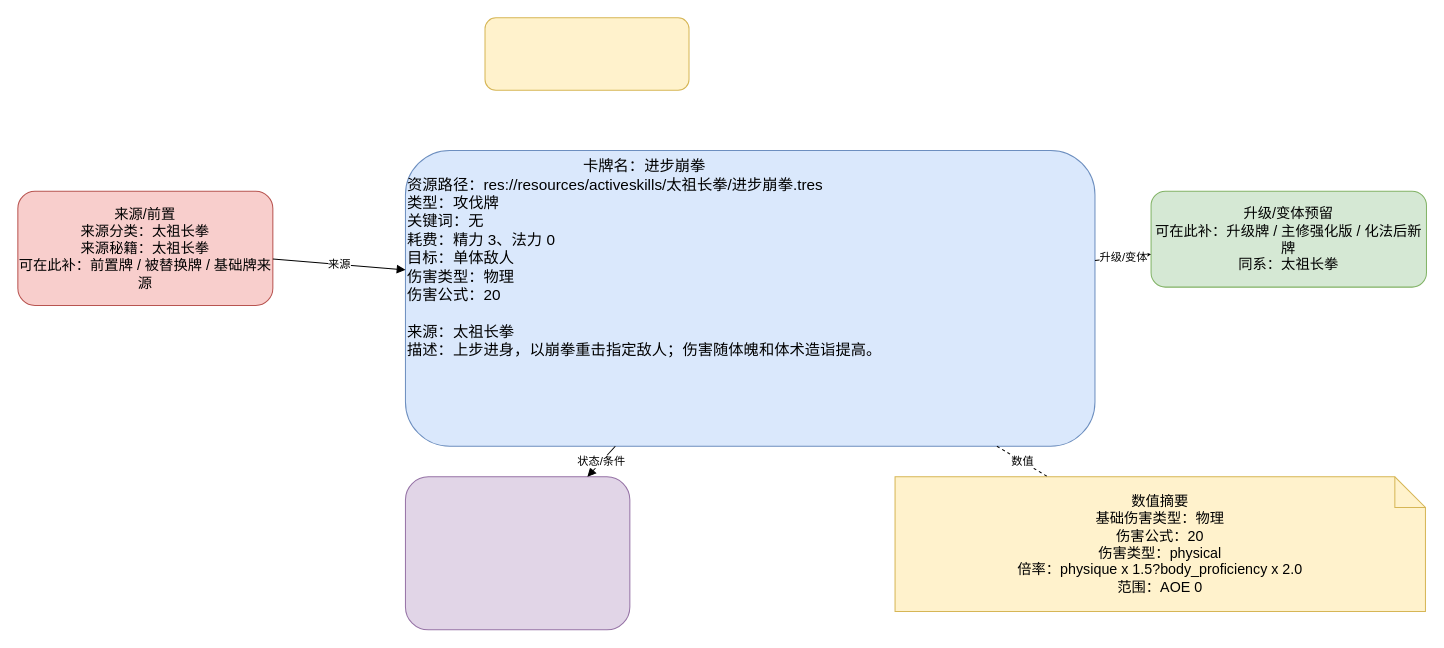
The diagram is 1444 pixels wide and 648 high, and some of its shapes have lost their labels. Each missing label, with the box of its shape:
状态/关键词/条件 关键词：消耗 状态：无 功法条件：NONE 流转：无 乘势：无 应对：无: (404, 476, 630, 630)
进步崩拳 卡牌词典自动初稿: (484, 17, 689, 90)
